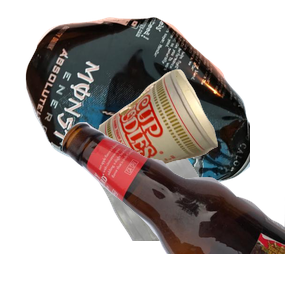glass: (60, 120, 300, 300)
metal: (23, 15, 263, 195)
plastic: (80, 120, 289, 300)
trash: (95, 67, 300, 238)
